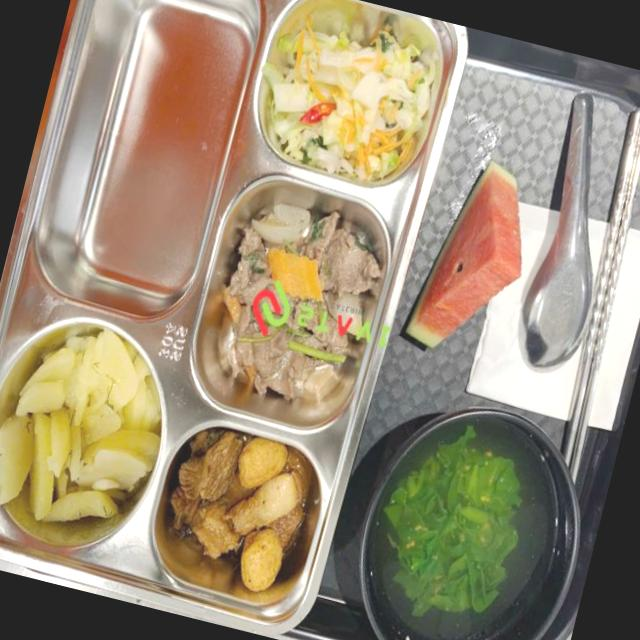bo xao: (219, 331, 346, 403), (288, 212, 381, 300)
canh cai: (375, 415, 552, 625)
dua hau: (400, 162, 521, 348)
kho trung: (170, 431, 308, 591)
nuoc mam: (87, 1, 249, 294)
rau: (263, 17, 430, 182)
